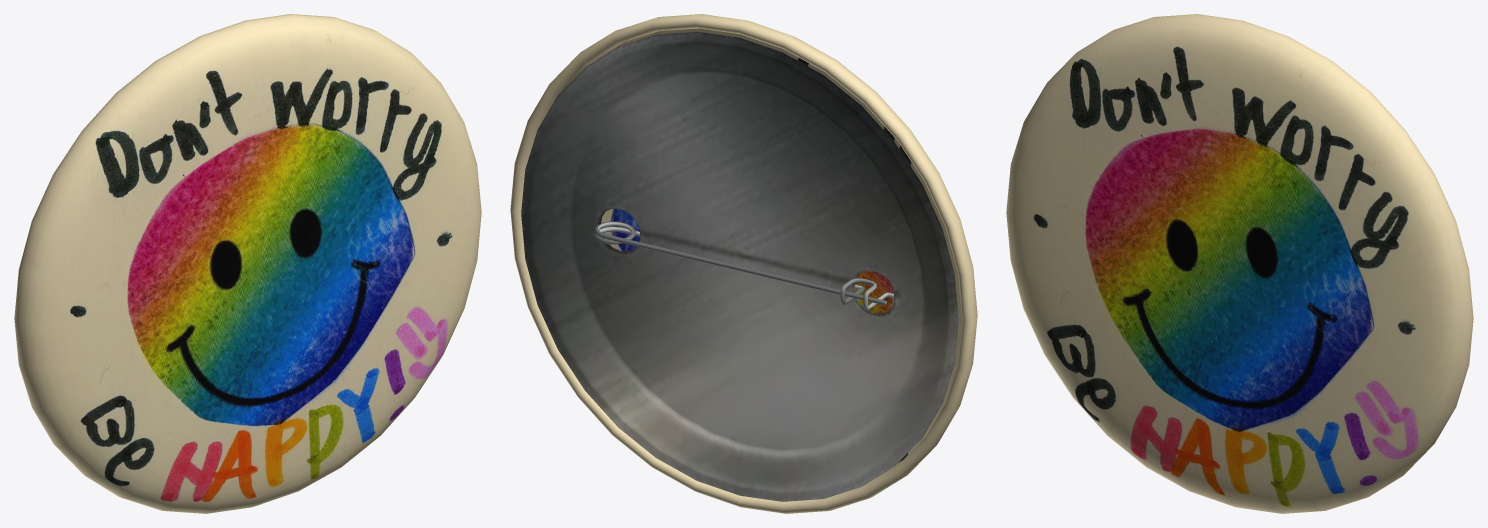
The model's file is badge.glb.
3 renders of one model, left to right at view 1: azimuth 30°, elevation 25°; view 2: azimuth 150°, elevation 25°; view 3: azimuth 330°, elevation 25°, orthographic.
Visible parts, largest first — view 1: Button_Pin.001; view 2: Button_Pin.001; view 3: Button_Pin.001.
Part boxes in pixels (bbox=[...]): Button_Pin.001: bbox=[14, 14, 481, 513]; Button_Pin.001: bbox=[510, 14, 977, 513]; Button_Pin.001: bbox=[1006, 14, 1473, 513].
Size of the model in its own units: 0.0933 by 0.0933 by 0.0112.
Materials: 2 (2 with a texture image).
